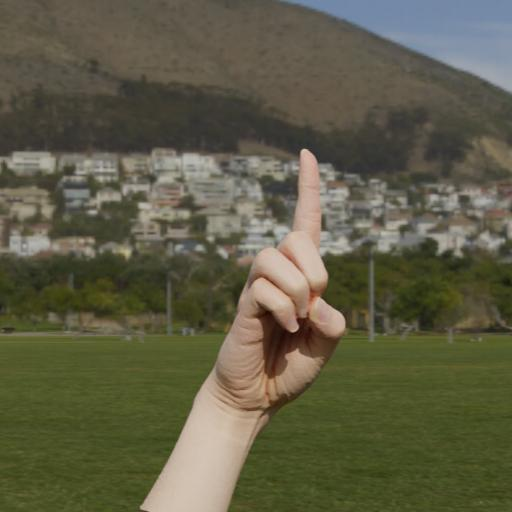D: (188, 144, 360, 464)
